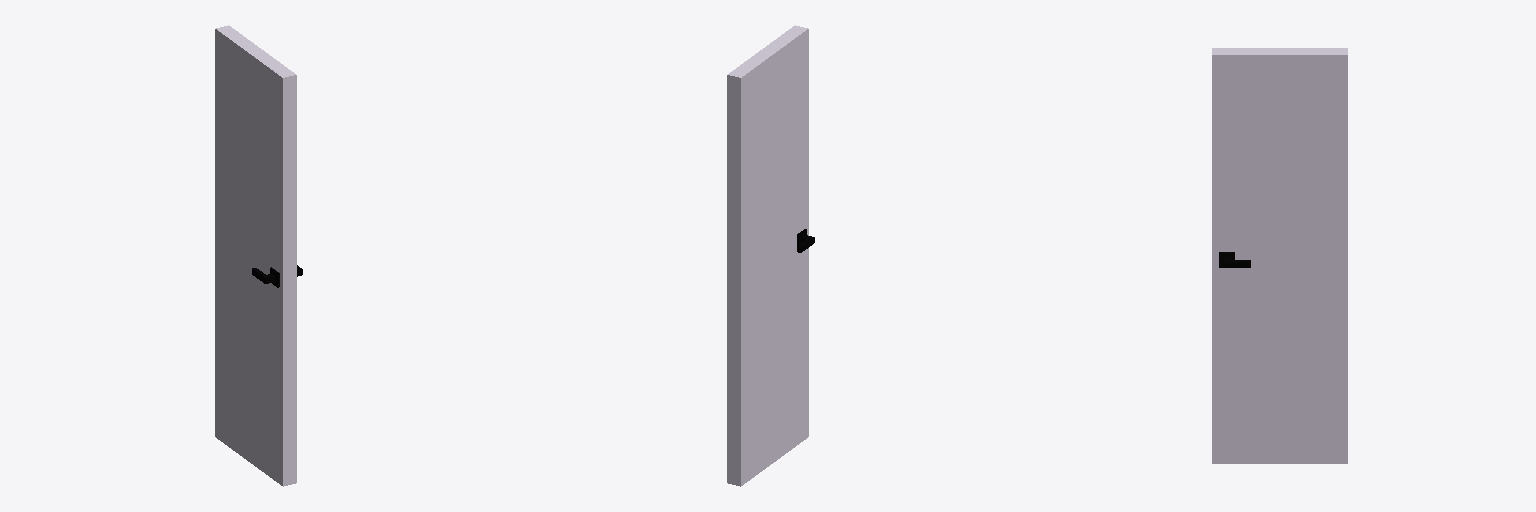
The model's file is door601_white.obj.
The picture shows the model from 3 angles: view 1: azimuth 30°, elevation 25°; view 2: azimuth 150°, elevation 25°; view 3: azimuth 270°, elevation 25°; orthographic projection.
Parts seen in each view (by area): view 1: Cube; view 2: Cube; view 3: Cube.
Part boxes in pixels (bbox=[...]): Cube: bbox=[215, 25, 302, 486]; Cube: bbox=[727, 25, 814, 486]; Cube: bbox=[1212, 48, 1347, 463].
Bounding box in the file's own units: 0.1899 × 2 × 0.5999.